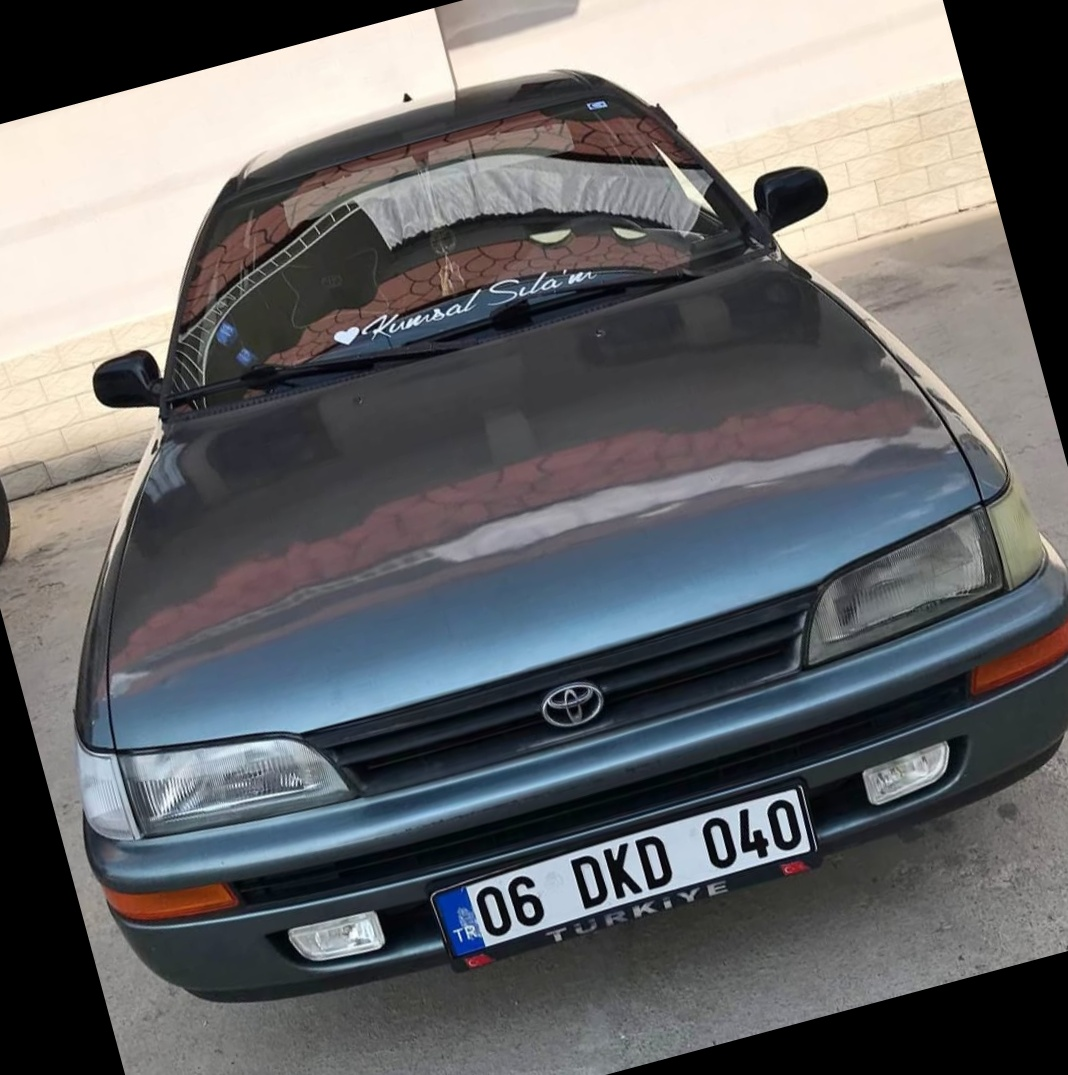plaka: (450, 794, 832, 939)
